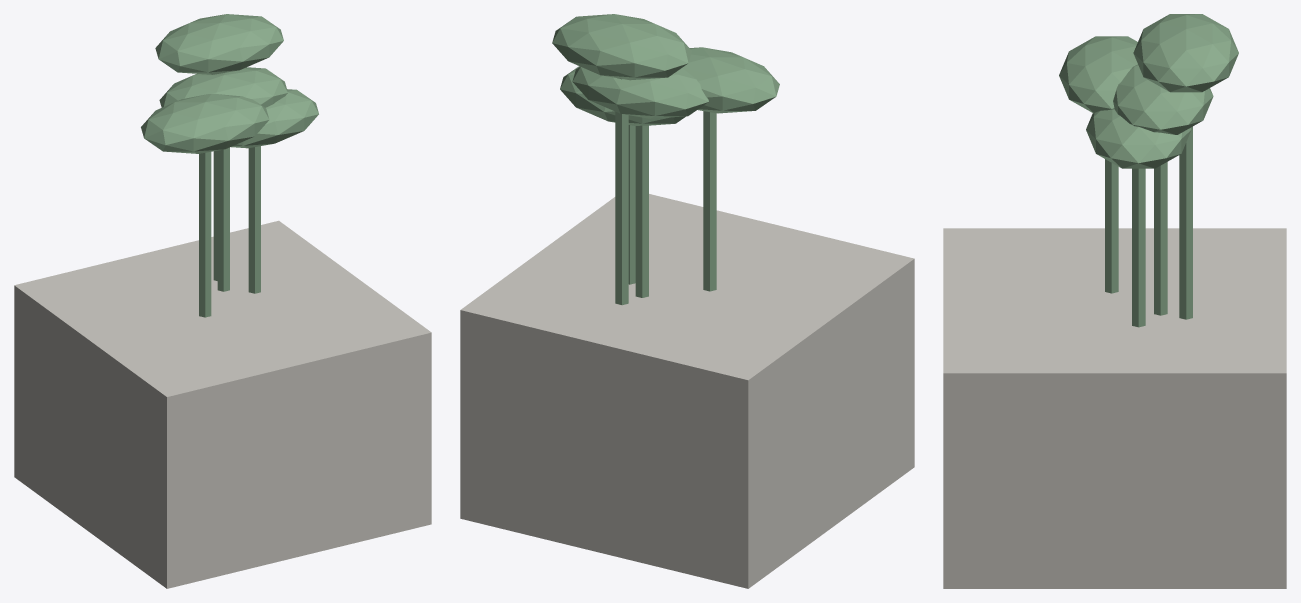
Rendered from planter_03.glb.
The picture shows the model from 3 angles, left to right: view 1: azimuth 30°, elevation 25°; view 2: azimuth 150°, elevation 25°; view 3: azimuth 270°, elevation 25°; orthographic projection. The views are drawn at different scales.
Visible parts, largest first — view 1: pot, leaf1, leaf3, leaf0, leaf2, stem3, stem2, stem0, stem1; view 2: pot, leaf1, leaf0, leaf3, stem1, stem3, stem0, leaf2, stem2; view 3: pot, leaf1, leaf3, leaf0, leaf2, stem1, stem2, stem0, stem3.
Part boxes in pixels (x1,y1,x2,y2): pot: [14, 220, 431, 588]; leaf1: [155, 14, 283, 74]; leaf3: [141, 94, 269, 153]; leaf0: [159, 67, 287, 107]; leaf2: [231, 89, 318, 148]; stem3: [199, 152, 211, 317]; stem2: [248, 146, 260, 293]; stem0: [217, 147, 229, 291]; stem1: [213, 150, 217, 280]; pot: [460, 194, 914, 588]; leaf1: [552, 14, 691, 80]; leaf0: [572, 66, 708, 118]; leaf3: [682, 47, 779, 113]; stem1: [615, 78, 628, 305]; stem3: [703, 111, 716, 291]; stem0: [635, 125, 648, 297]; leaf2: [560, 66, 685, 125]; stem2: [628, 125, 635, 284]; pot: [943, 228, 1286, 588]; leaf1: [1133, 14, 1238, 92]; leaf3: [1059, 36, 1137, 113]; leaf0: [1113, 64, 1213, 134]; leaf2: [1086, 109, 1191, 168]; stem1: [1179, 126, 1192, 319]; stem2: [1132, 168, 1145, 327]; stem0: [1154, 162, 1167, 315]; stem3: [1105, 159, 1118, 293].
Size of the model in its own units: 0.65 by 1.05 by 0.65.
